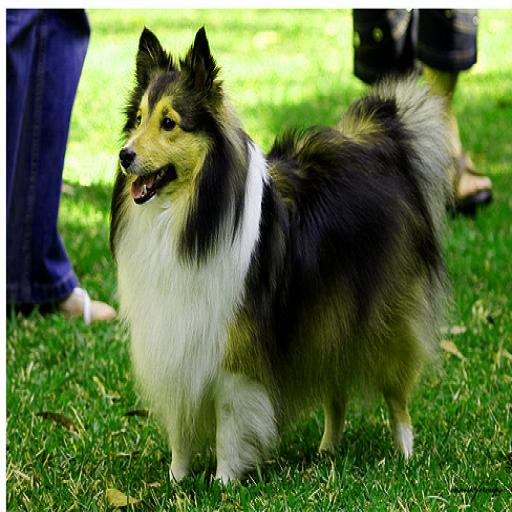dog_face: (119, 28, 214, 213)
